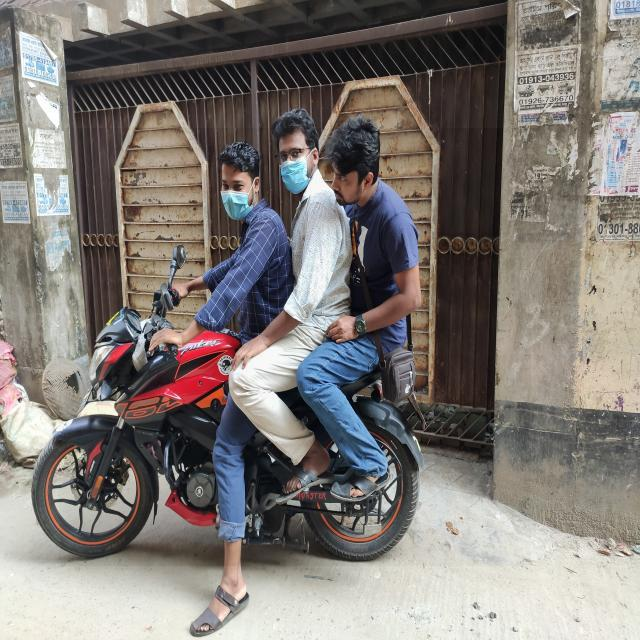Overloading: (59, 128, 531, 566)
